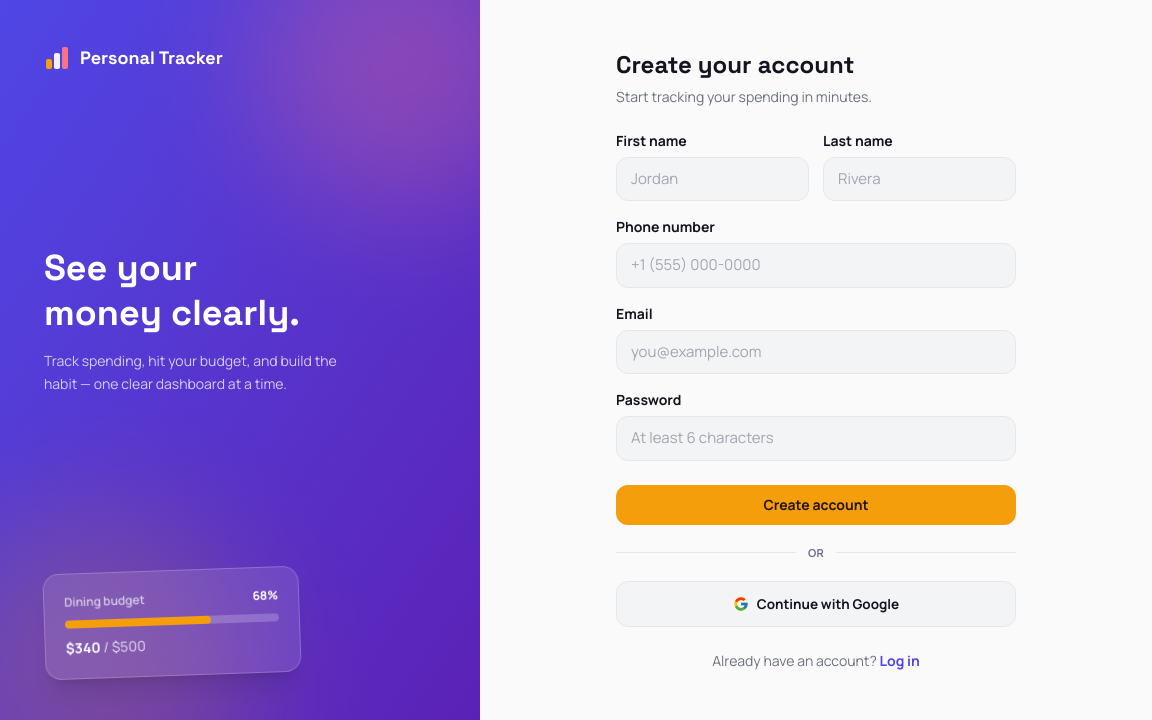
Test: SignupPage › shows a password strength hint as the user types
Type "abcdef" into the password field labelled "Password". click: (816, 438)
box: top-left (616, 416), bottom-right (1016, 461)
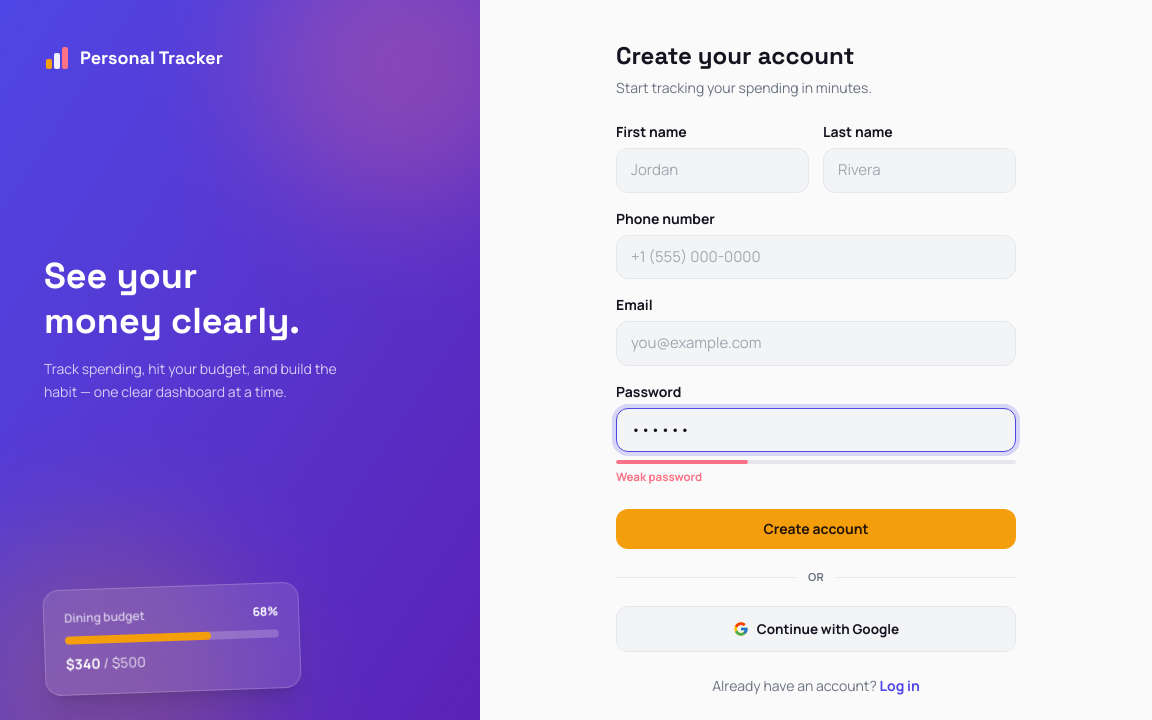
Result: the text "Weak password" is shown at top-left (616, 469), bottom-right (702, 484)
Type "gh12" into the password field labelled "Password". click: (816, 430)
box: top-left (616, 408), bottom-right (1016, 452)
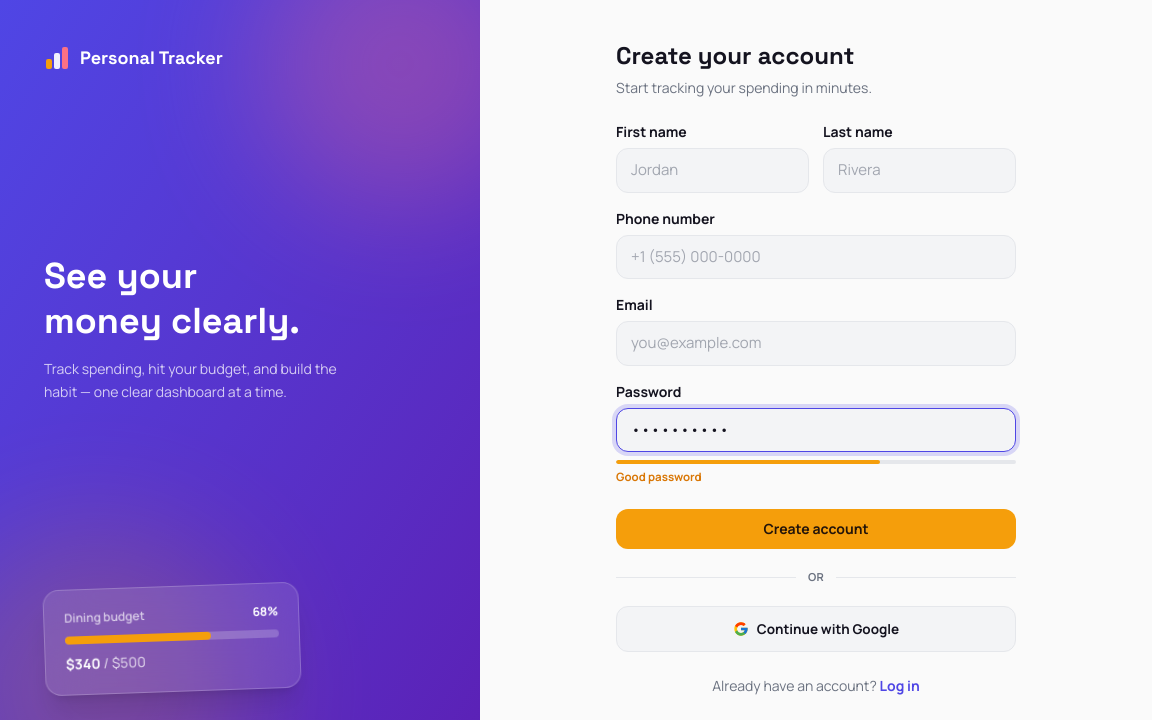
Result: the text "Good password" is shown at top-left (616, 469), bottom-right (702, 484)
